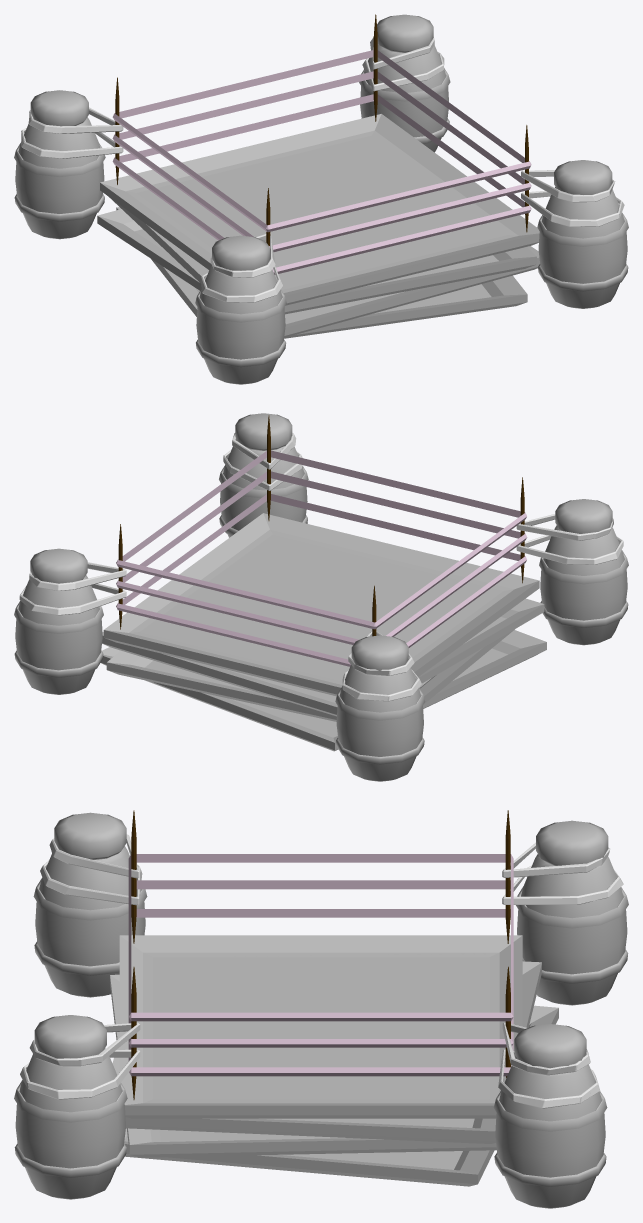
Rendered from Ring.fbx.
3 renders of one model, top to bottom at view 1: azimuth 30°, elevation 25°; view 2: azimuth 150°, elevation 25°; view 3: azimuth 270°, elevation 25°, orthographic. The views are drawn at different scales.
Visible parts, largest first — view 1: Plato1, Salero3, Salero, Salero2, Liga, Salero1, Liga1, Liga2, Plato3, Plato2, Plato4, LagaeS7 (+6 smaller); view 2: Plato1, Salero2, Salero3, Salero1, Liga, Plato4, Liga1, Salero, Liga2, Plato2, Plato3, LagaeS11 (+6 smaller); view 3: Plato1, Salero1, Salero, Salero2, Salero3, Liga, Plato2, Plato4, Plato3, Liga1, Liga2, LagaeS7 (+9 smaller).
Part boxes in pixels (x1,y1,x2,y2): Plato1: [100, 114, 539, 305]; Salero3: [195, 235, 286, 384]; Salero: [537, 160, 628, 308]; Salero2: [14, 90, 105, 239]; Liga: [112, 50, 531, 232]; Salero1: [359, 14, 450, 152]; Liga1: [112, 71, 531, 251]; Liga2: [112, 94, 531, 274]; Plato3: [97, 209, 539, 337]; Plato2: [109, 197, 536, 314]; Plato4: [116, 207, 527, 338]; LagaeS7: [521, 190, 624, 226]; Plato1: [103, 513, 539, 696]; Salero2: [335, 635, 425, 781]; Salero3: [539, 499, 628, 645]; Salero1: [14, 548, 103, 694]; Liga: [116, 450, 526, 629]; Plato4: [100, 630, 546, 751]; Liga1: [116, 471, 527, 644]; Salero: [219, 413, 308, 537]; Liga2: [116, 494, 526, 666]; Plato2: [102, 598, 544, 716]; Plato3: [106, 629, 514, 721]; LagaeS11: [19, 583, 126, 615]; Plato1: [119, 935, 522, 1118]; Salero1: [493, 1024, 607, 1208]; Salero: [14, 1015, 127, 1199]; Salero2: [516, 820, 628, 1005]; Salero3: [33, 812, 147, 997]; Liga: [128, 854, 513, 1021]; Plato2: [112, 961, 541, 1143]; Plato4: [124, 1005, 558, 1186]; Plato3: [110, 974, 496, 1157]; Liga1: [128, 880, 513, 1047]; Liga2: [128, 909, 513, 1076]; LagaeS7: [20, 1049, 140, 1099].
Size of the model in its own units: 22.83 by 8.35 by 22.89.
